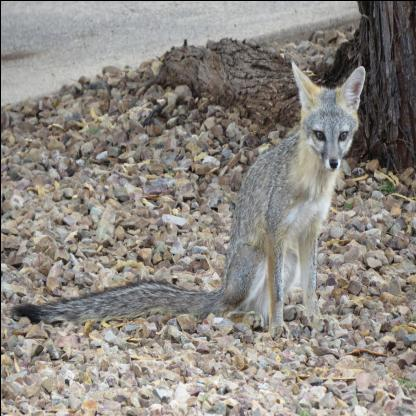zorro: (0, 52, 368, 341)
